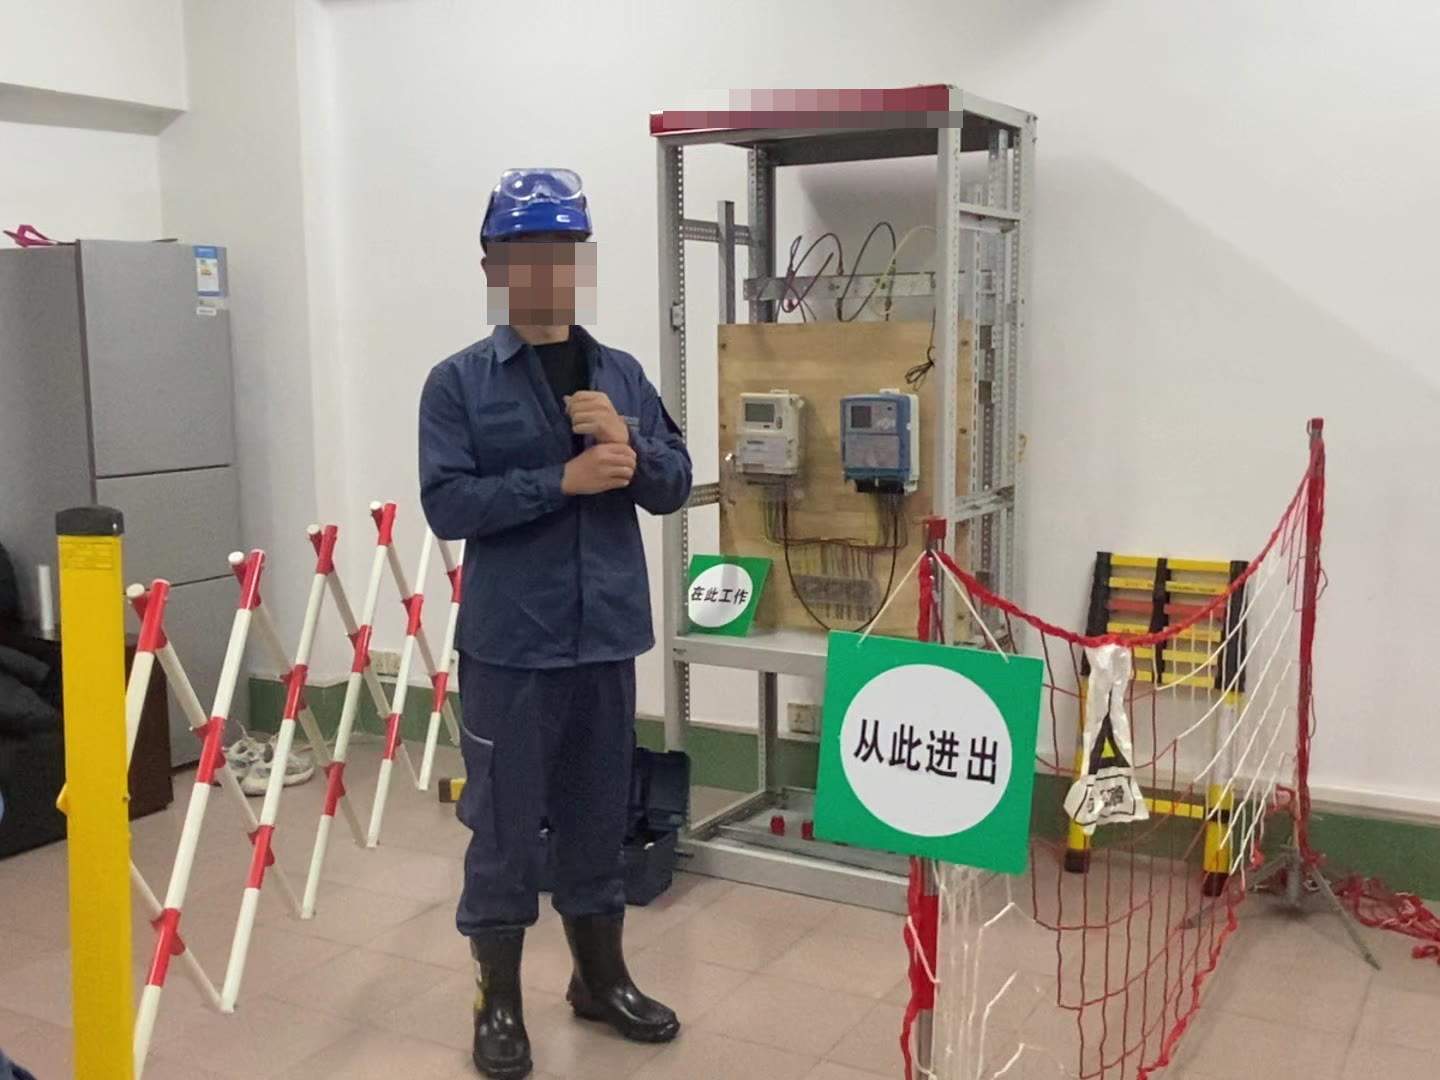downsuit: (448, 655, 649, 944)
halt: (474, 165, 598, 333)
hand: (555, 441, 645, 506), (558, 386, 634, 444)
inear: (478, 236, 524, 317)
intosign: (802, 626, 1053, 887)
person: (412, 162, 705, 1080)
shoe: (546, 906, 678, 1041), (456, 921, 543, 1080)
upsuit: (412, 323, 695, 665)
worksign: (679, 553, 775, 643)
wrongsuit: (529, 332, 606, 469)
